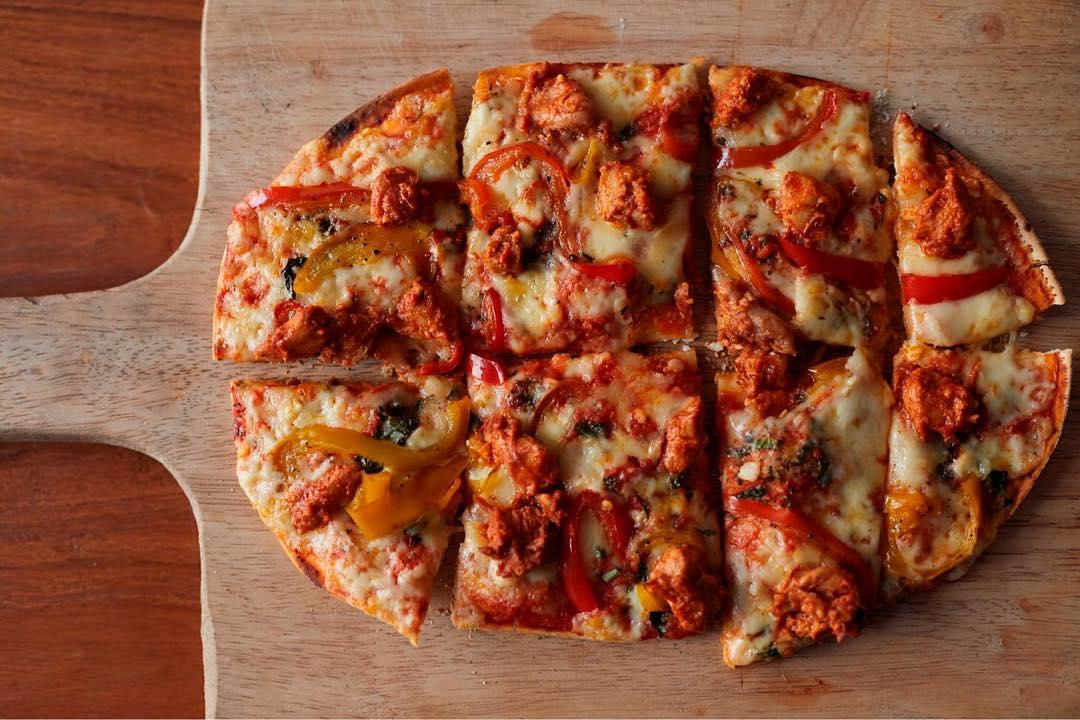Chicken: (488, 428, 565, 564), (898, 362, 986, 456), (725, 310, 804, 406), (770, 563, 857, 647), (910, 175, 985, 267), (289, 458, 364, 536), (653, 393, 714, 483), (510, 83, 595, 146), (398, 278, 458, 355), (772, 172, 838, 239), (652, 553, 714, 623), (269, 305, 340, 365), (593, 162, 650, 236), (367, 165, 421, 213)
Peppers: (725, 475, 866, 573), (294, 221, 441, 294), (714, 92, 837, 171), (885, 481, 979, 576), (271, 427, 465, 473), (566, 490, 635, 618), (348, 471, 473, 540), (462, 178, 573, 251), (776, 235, 882, 292), (709, 230, 776, 313), (246, 175, 370, 216), (461, 141, 576, 183), (894, 263, 1011, 301), (523, 375, 587, 436), (412, 352, 507, 384), (561, 252, 635, 286), (478, 287, 506, 345)
Pizza: (219, 70, 1080, 656)
